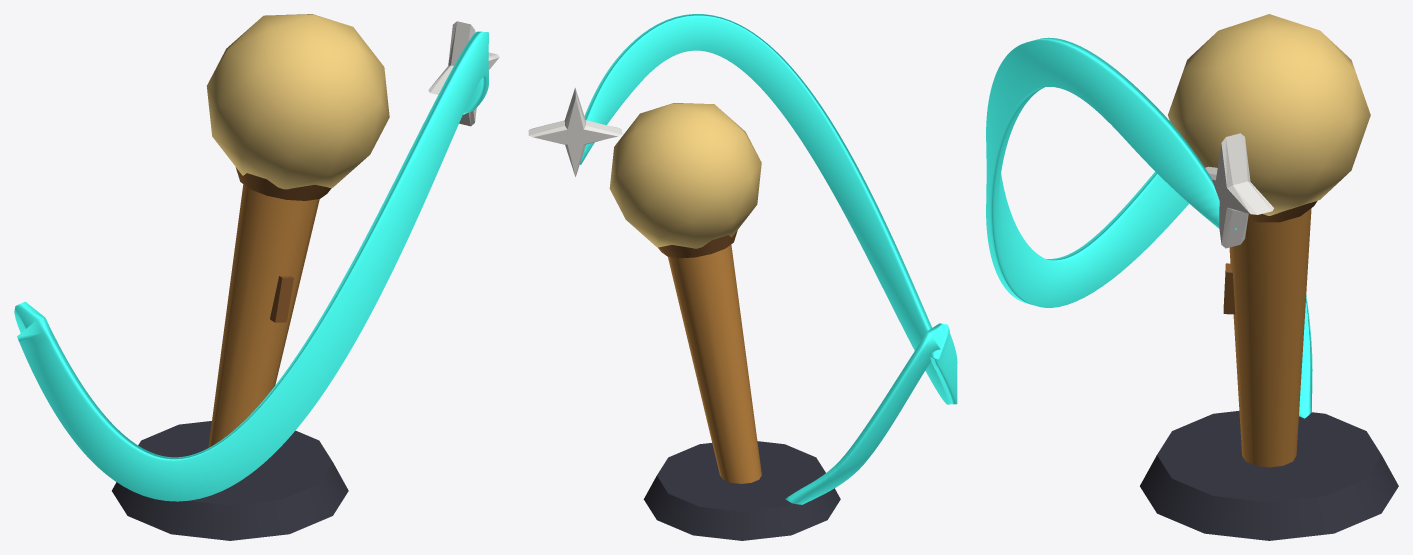
Rendered from 012-sonare-live.glb.
3 renders of one model, left to right at view 1: azimuth 30°, elevation 25°; view 2: azimuth 150°, elevation 25°; view 3: azimuth 270°, elevation 25°, orthographic. The views are drawn at different scales.
Parts seen in each view (by area): view 1: logo-microphone, koi-swim-gesture, base, sparkle; view 2: logo-microphone, koi-swim-gesture, base, sparkle; view 3: logo-microphone, koi-swim-gesture, base, sparkle.
Part boxes in pixels (x1,y1,x2,y2): logo-microphone: [206, 14, 389, 447]; koi-swim-gesture: [14, 31, 488, 501]; base: [112, 421, 348, 540]; sparkle: [428, 21, 499, 126]; logo-microphone: [609, 103, 761, 483]; koi-swim-gesture: [580, 14, 957, 504]; base: [643, 441, 840, 540]; sparkle: [528, 88, 622, 176]; logo-microphone: [1168, 14, 1370, 467]; koi-swim-gesture: [986, 37, 1312, 418]; base: [1140, 411, 1398, 540]; sparkle: [1205, 133, 1273, 248].
Size of the model in its own units: 1.42 by 1.33 by 0.9556.
